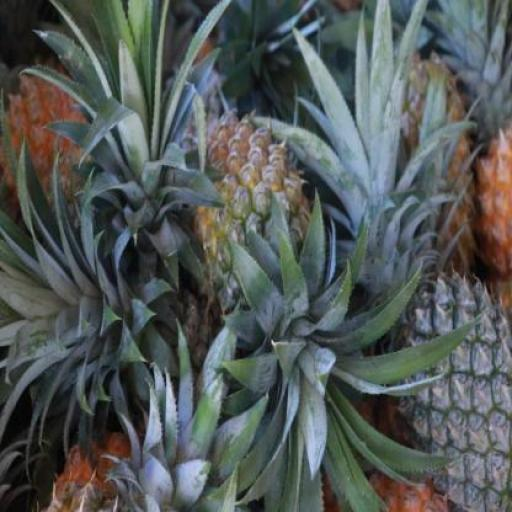------------------------------: (184, 111, 324, 321)
